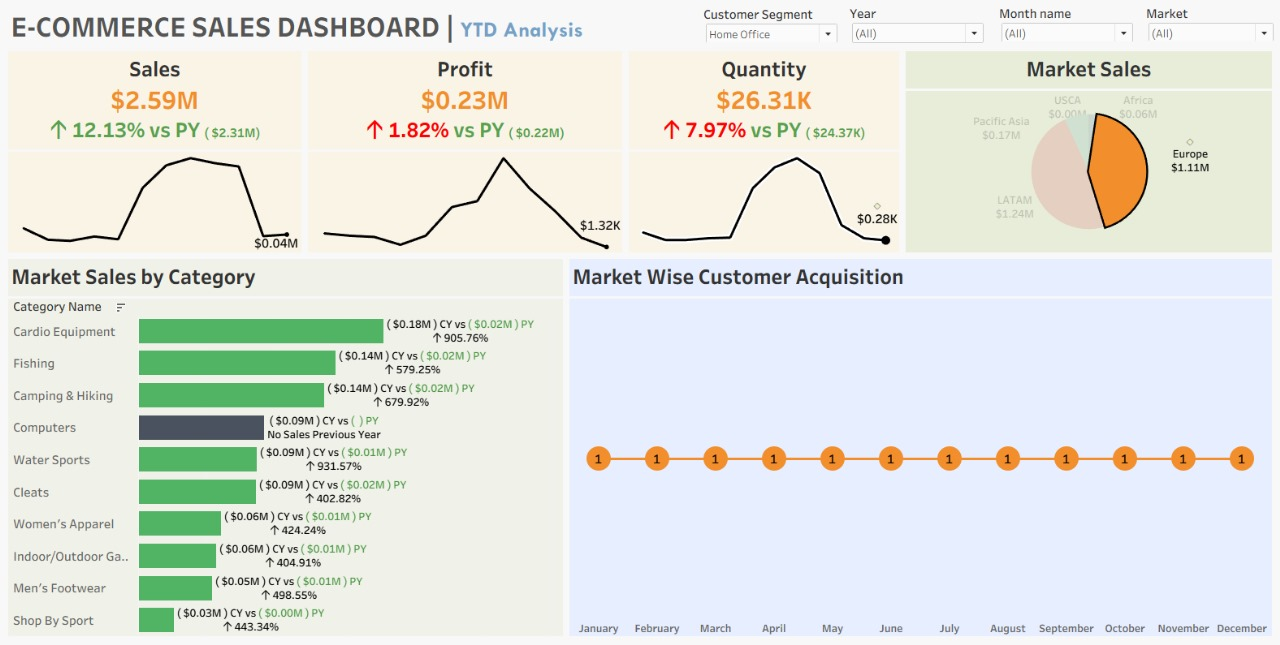

The page's visual inventory and layout, read from the dashboard file:
{"tool":"tableau","page":{"name":"Dashboard","canvas":[1580,799],"ordinal":0},"visuals":[{"type":"title","box":[8,8,1564,54]},{"type":"filter","title":"Market Sales by category","param":"[federated.1wre8hp0t27nyw19d0zb518q1o0j].[none:Month name (copy)_631629897574780","box":[1048,9,168,48]},{"type":"filter","title":"Market Sales by category","param":"[federated.1wre8hp0t27nyw19d0zb518q1o0j].[none:Calculation_631629897574305823:nk","box":[1232,9,168,45]},{"type":"filter","title":"Market Sales by category","param":"[federated.1wre8hp0t27nyw19d0zb518q1o0j].[none:Market:nk]","box":[1413,9,160,44]},{"type":"filter","title":"Profit KPI Card","param":"[federated.1wre8hp0t27nyw19d0zb518q1o0j].[none:Customer Segment:nk]","box":[868,10,168,45]},{"type":"worksheet","title":"Sales KPI Card","mark":"Automatic","rows":["Sales"],"cols":["Order Date"],"box":[8,62,369,256]},{"type":"worksheet","title":"Profit KPI Card","mark":"Automatic","rows":["Profit Per Order"],"cols":["Order Date"],"box":[377,62,395,256]},{"type":"worksheet","title":"Quantity KPI Card","mark":"Automatic","rows":["Order Quantity"],"cols":["Order Date"],"box":[772,62,341,256]},{"type":"worksheet","title":"Market Sales","mark":"Pie","cols":["Calculation_631629897511325714","Calculation_631629897511358484"],"box":[1113,62,459,256]},{"type":"worksheet","title":"Market Sales by category","mark":"Automatic","rows":["Category Name"],"cols":["YTD Sales LOD (copy)_631629897511686165"],"box":[8,318,690.9,473]},{"type":"worksheet","title":"Market Wise Customer Acquisition ","mark":"Automatic","cols":["Order Date"],"box":[698.9,318,873.1,473]}]}

Visuals, with their boxes in screenshot pixels (x1, y1, x2, y2), scaled from the page's 1580x799 canvas onto the 1280x645 screenshot:
title: crop(6, 6, 1274, 50)
"Market Sales by category" filter: crop(849, 7, 985, 46)
"Market Sales by category" filter: crop(998, 7, 1134, 44)
"Market Sales by category" filter: crop(1145, 7, 1274, 43)
"Profit KPI Card" filter: crop(703, 8, 839, 44)
"Sales KPI Card" worksheet: crop(6, 50, 305, 257)
"Profit KPI Card" worksheet: crop(305, 50, 625, 257)
"Quantity KPI Card" worksheet: crop(625, 50, 902, 257)
"Market Sales" worksheet (Pie marks): crop(902, 50, 1274, 257)
"Market Sales by category" worksheet: crop(6, 257, 566, 639)
"Market Wise Customer Acquisition " worksheet: crop(566, 257, 1274, 639)
